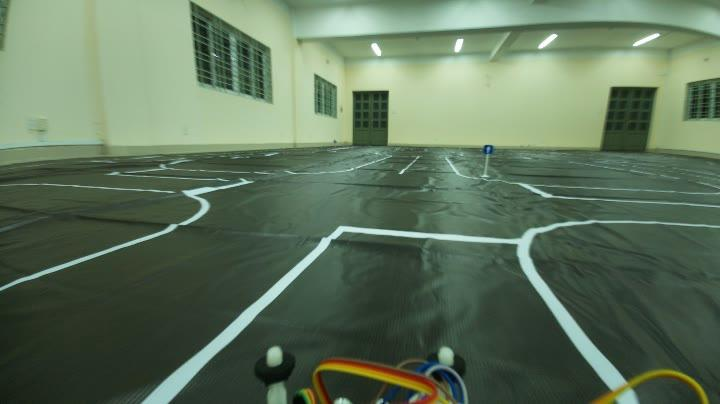onewayroad: (477, 140, 494, 158)
